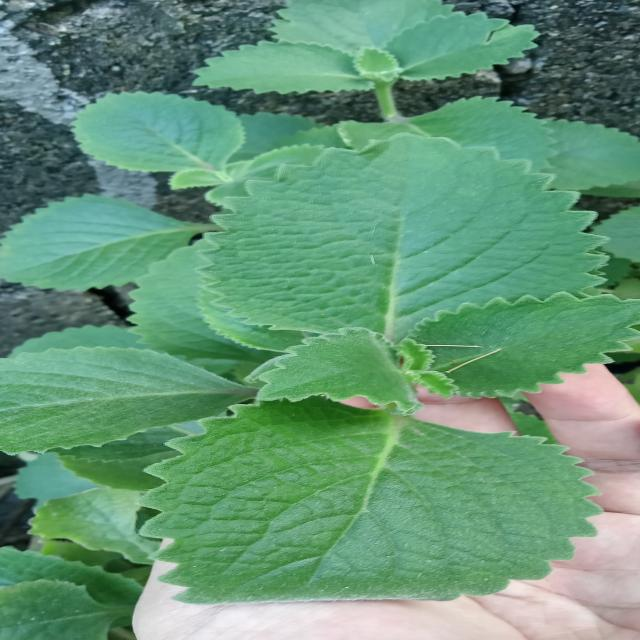Oregano: (114, 128, 640, 612)
